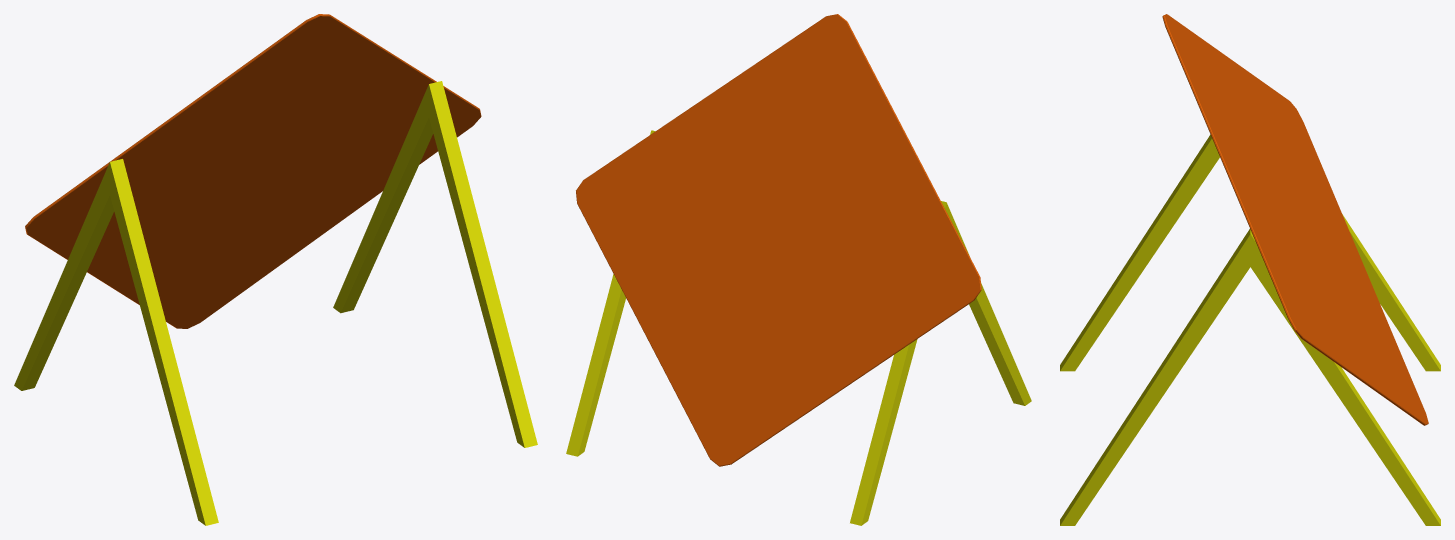
Rendered from RoadWorkAhead.fbx.
3 views of the same model, side by side, from view 1: azimuth 30°, elevation 25°; view 2: azimuth 150°, elevation 25°; view 3: azimuth 270°, elevation 25° (orthographic). The views are drawn at different scales.
Parts seen in each view (by area): view 1: RoadWorkAhead; view 2: RoadWorkAhead; view 3: RoadWorkAhead.
Boxes of the visible parts, bbox=[...] form: RoadWorkAhead: bbox=[14, 14, 537, 525]; RoadWorkAhead: bbox=[566, 14, 1031, 525]; RoadWorkAhead: bbox=[1060, 14, 1440, 525].
Size of the model in its own units: 1.37 by 1.25 by 1.
